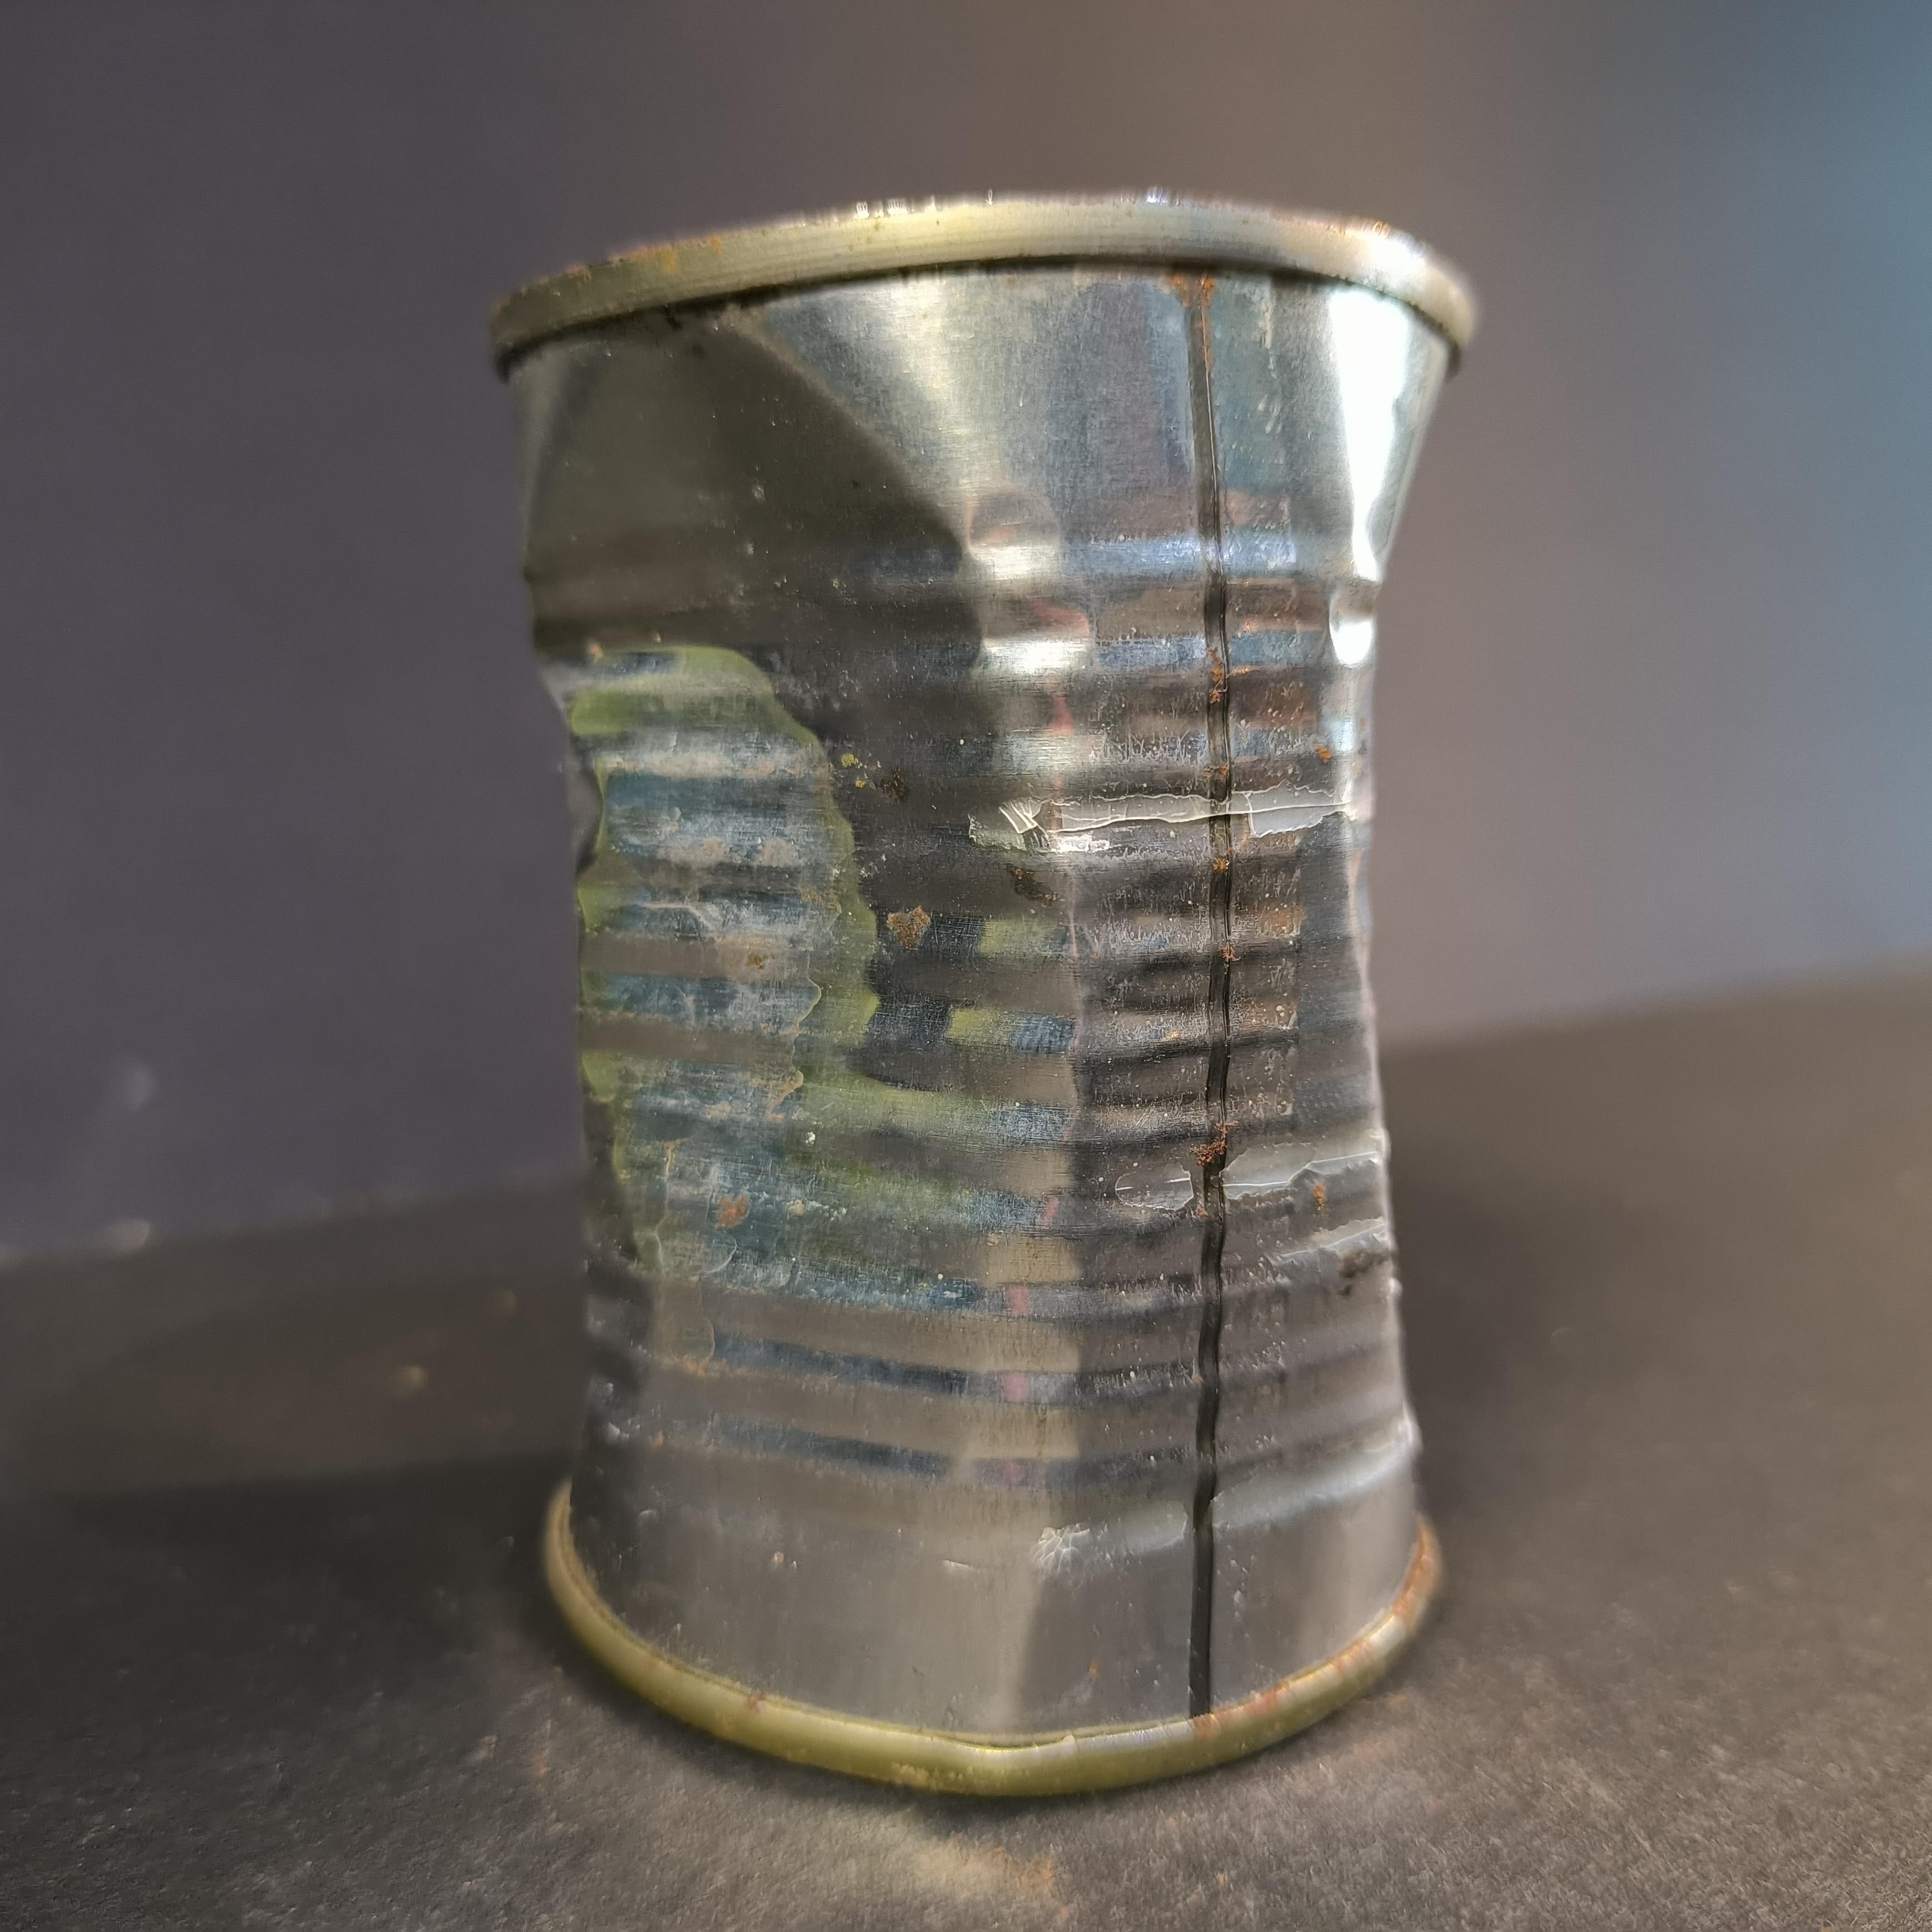Dented: (462, 106, 1522, 1856)
